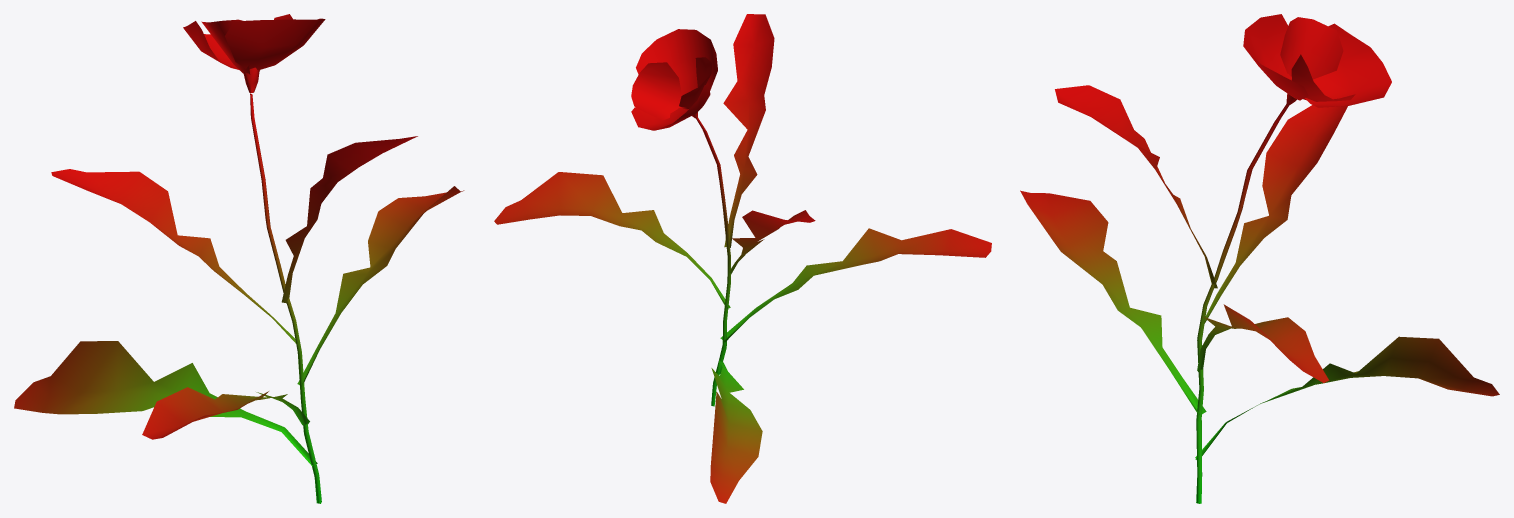
Rendered from SM_Urb_Gar_Flower_Poppy_Set_01_D.FBX.
3 views of the same model, side by side, from view 1: azimuth 30°, elevation 25°; view 2: azimuth 150°, elevation 25°; view 3: azimuth 270°, elevation 25° (orthographic). The views are drawn at different scales.
Parts seen in each view (by area): view 1: SM_Urb_Gar_Flower_Poppy_Set_01_D_LOD0; view 2: SM_Urb_Gar_Flower_Poppy_Set_01_D_LOD0; view 3: SM_Urb_Gar_Flower_Poppy_Set_01_D_LOD0.
Part boxes in pixels (x1=…): SM_Urb_Gar_Flower_Poppy_Set_01_D_LOD0: x1=14, y1=14, x2=464, y2=503; SM_Urb_Gar_Flower_Poppy_Set_01_D_LOD0: x1=494, y1=14, x2=991, y2=503; SM_Urb_Gar_Flower_Poppy_Set_01_D_LOD0: x1=1020, y1=14, x2=1499, y2=503.
Bounding box in the file's own units: 29.23 × 26.54 × 28.82.
